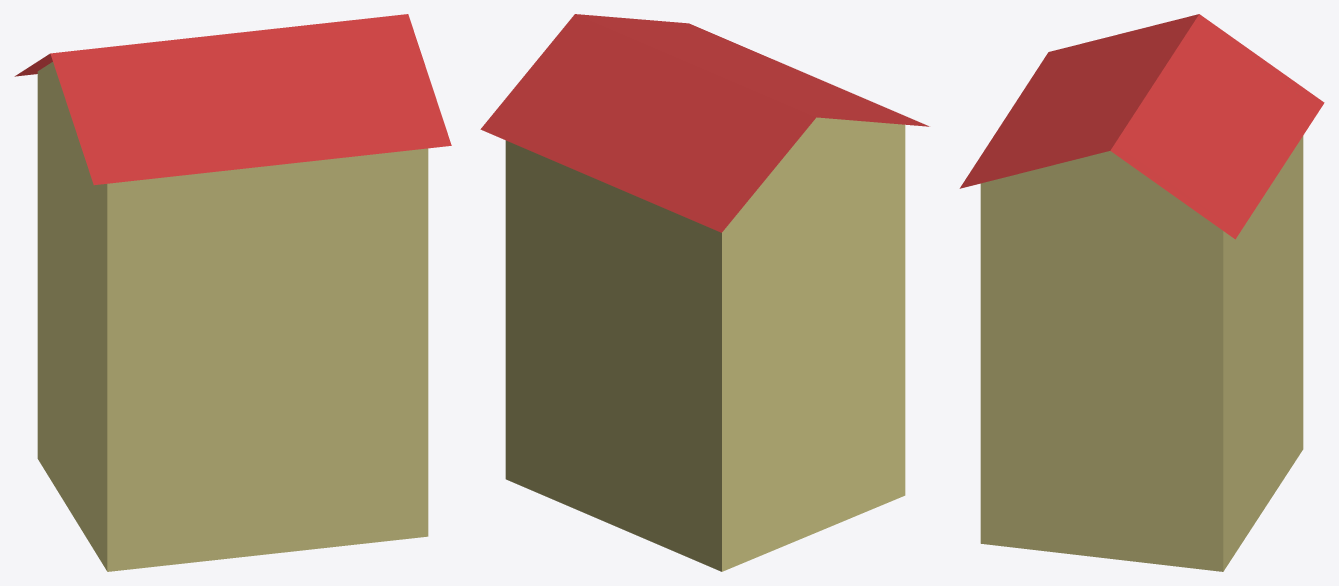
The picture shows the model from 3 angles, left to right: view 1: azimuth 30°, elevation 25°; view 2: azimuth 150°, elevation 25°; view 3: azimuth 270°, elevation 25°; orthographic projection. The views are drawn at different scales.
Size of the model in its own units: 5.76 by 5.27 by 6.61.
